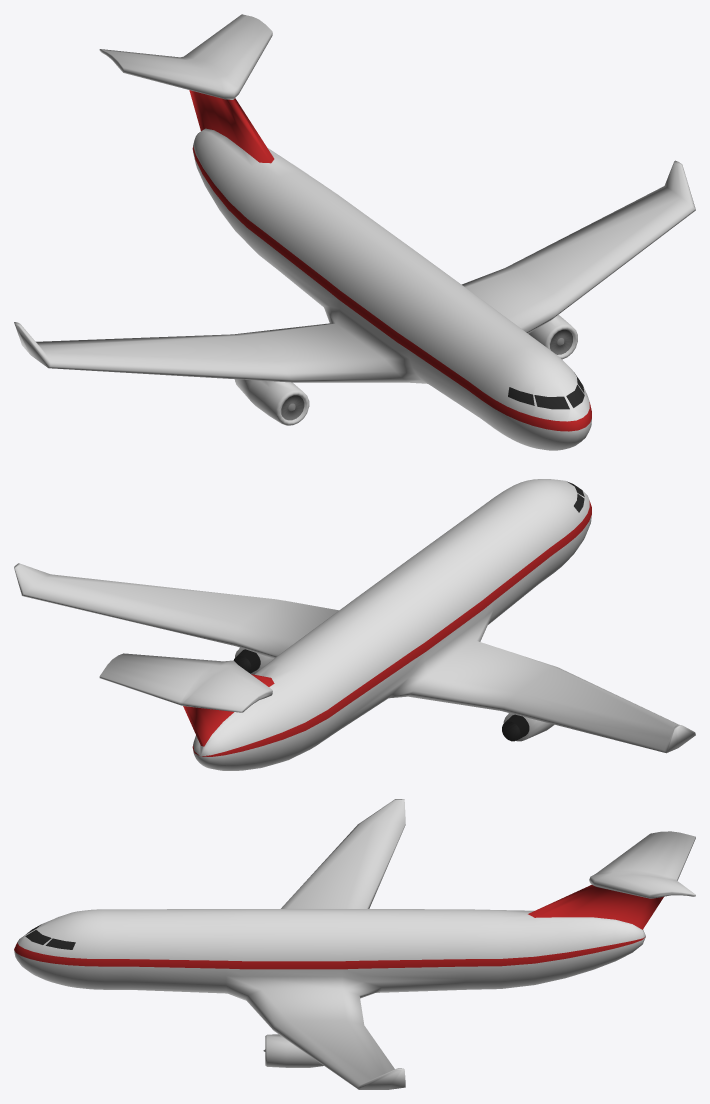
The model's file is aircraft_001.fbx.
The picture shows the model from 3 angles, top to bottom: view 1: azimuth 30°, elevation 25°; view 2: azimuth 150°, elevation 25°; view 3: azimuth 270°, elevation 25°; orthographic projection. The views are drawn at different scales.
Visible parts, largest first — view 1: aircraft_001; view 2: aircraft_001; view 3: aircraft_001.
Part boxes in pixels (left/top/right/bottom): aircraft_001: left=14, top=14, right=695, bottom=450; aircraft_001: left=14, top=479, right=695, bottom=770; aircraft_001: left=14, top=799, right=695, bottom=1089.
Size of the model in its own units: 15.9 by 4.11 by 16.92.
